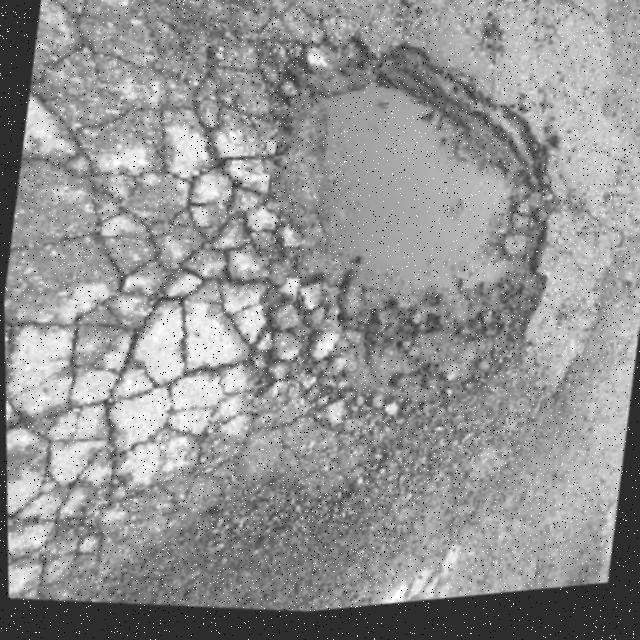pothole: (264, 17, 586, 382)
